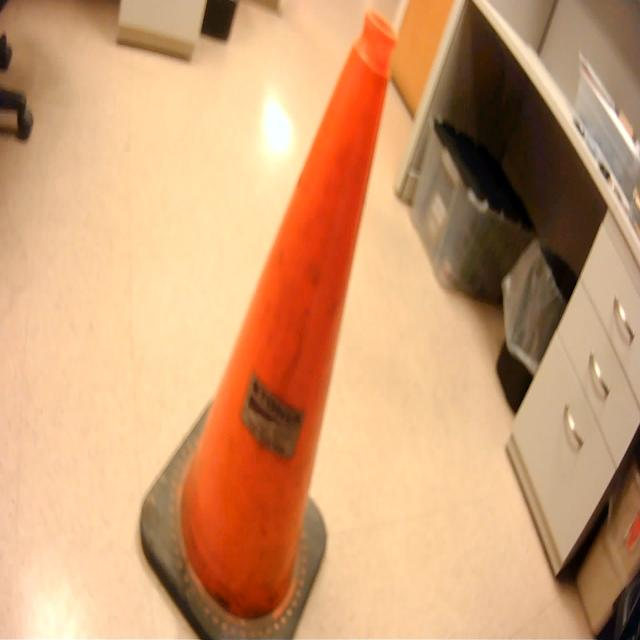traffic cone: (133, 3, 407, 640)
